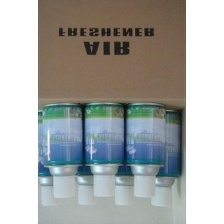aerosol_cans: (79, 99, 130, 199), (120, 99, 168, 200), (39, 99, 86, 200), (140, 106, 185, 210)
